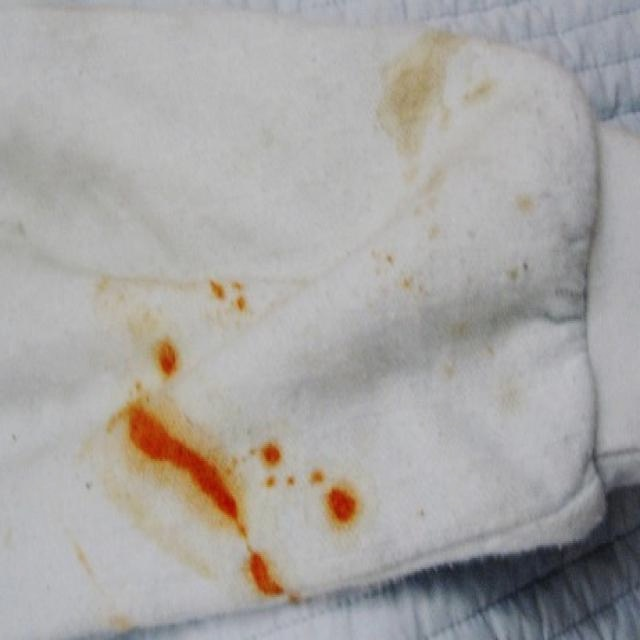kimchi: (94, 392, 361, 605), (359, 223, 544, 419), (360, 31, 513, 199), (201, 270, 262, 325), (147, 324, 191, 384)
